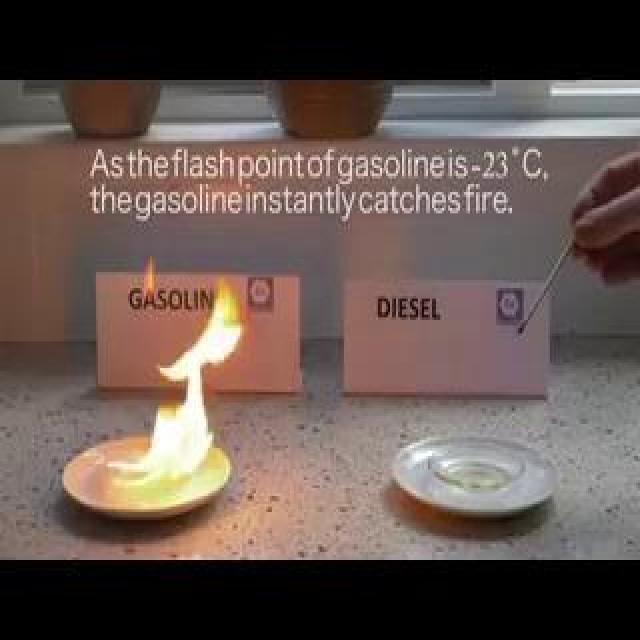Fire: (111, 304, 213, 499)
